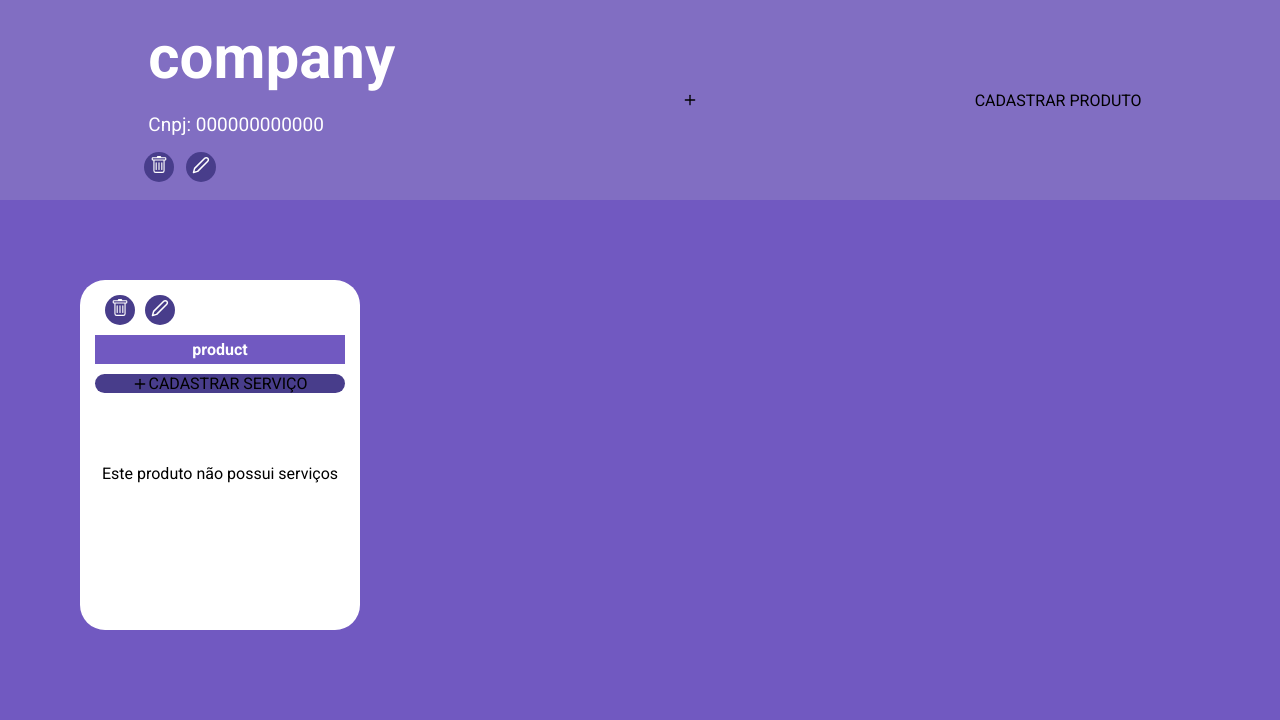
Dashboard › ProductDelete › should be able to open companyDelele modal and close it
Click the 3rd button: click(120, 310) [105, 295, 135, 325]
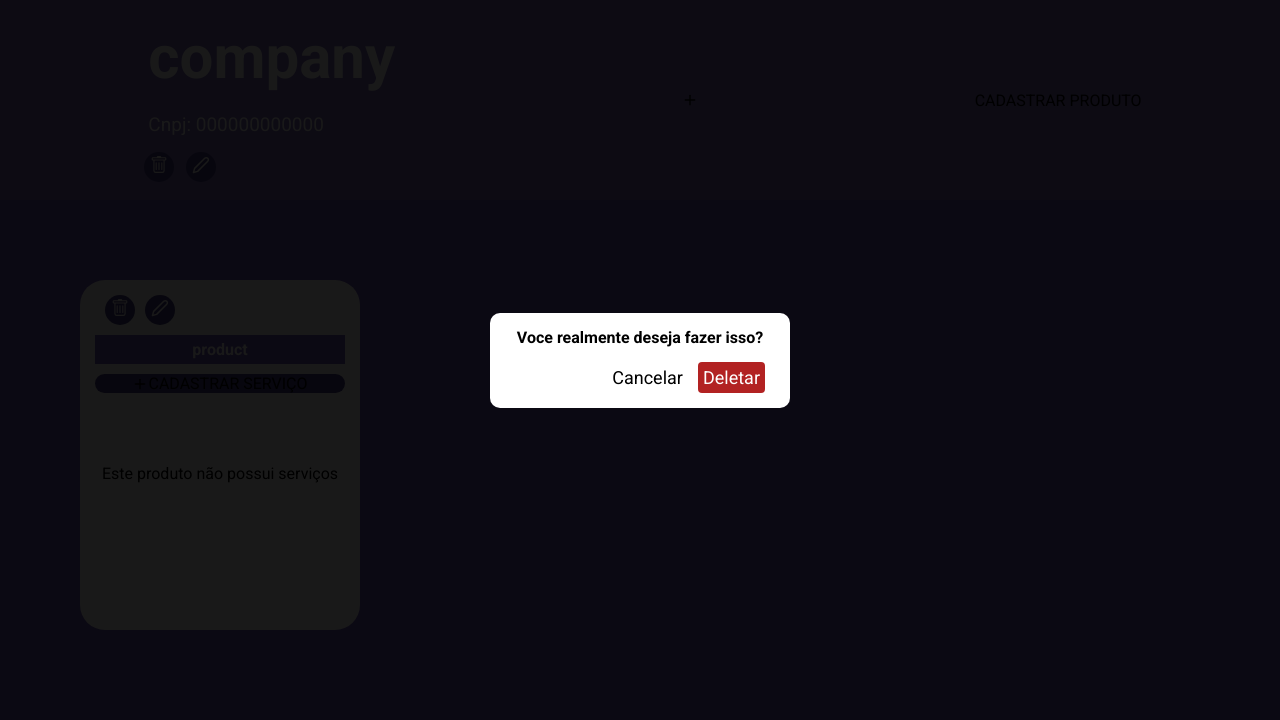
Click the button "Cancelar": click(648, 377) [607, 362, 688, 392]
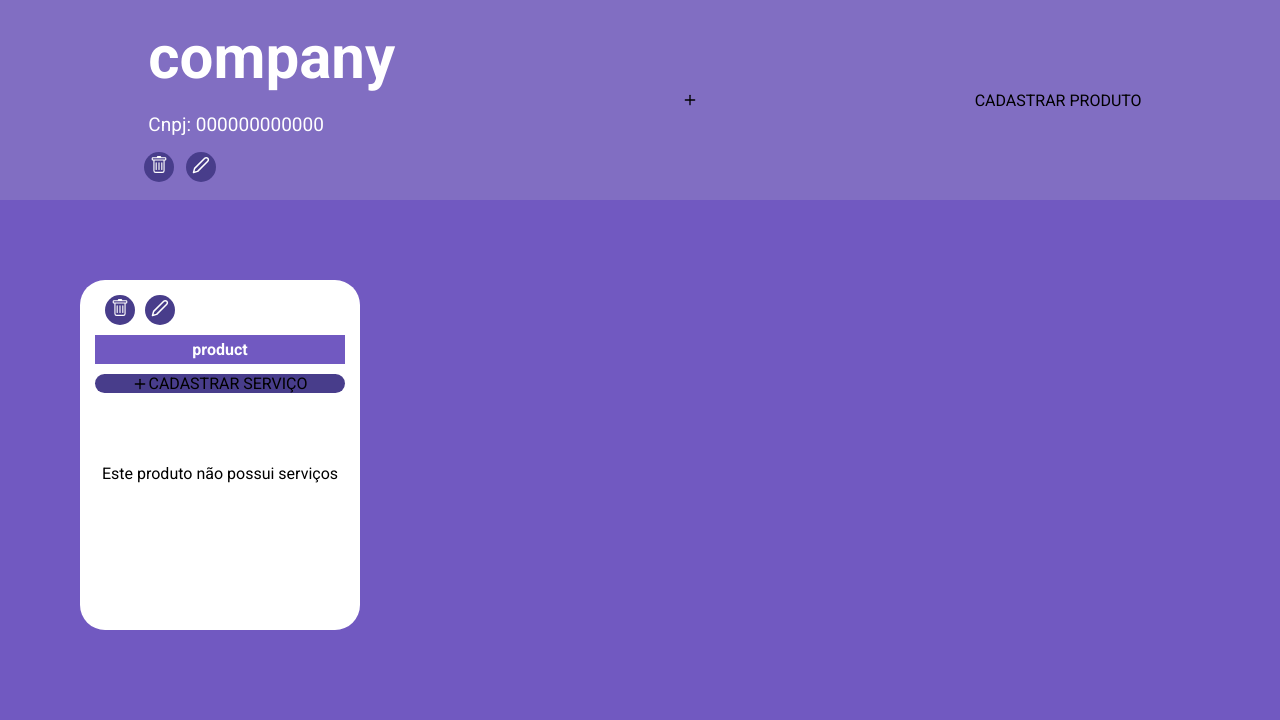
Expected: the dialog is gone
